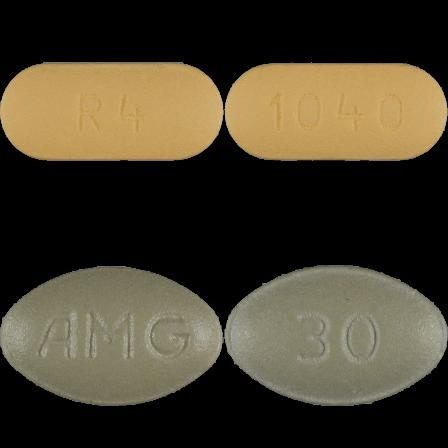53808-0574: (0, 0, 224, 224)
